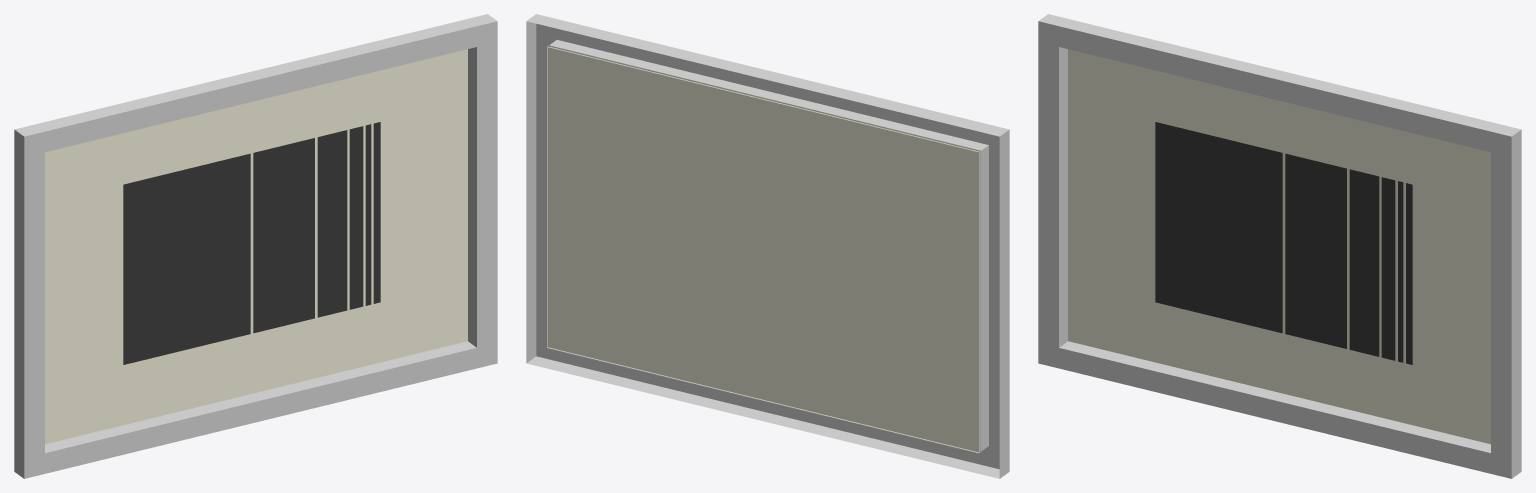
The model's file is picture_011.glb.
The picture shows the model from 3 angles, left to right: view 1: azimuth 30°, elevation 25°; view 2: azimuth 150°, elevation 25°; view 3: azimuth 330°, elevation 25°; orthographic projection.
Parts seen in each view (by area): view 1: picture_011; view 2: picture_011; view 3: picture_011.
Part boxes in pixels (left/top/right/bottom): picture_011: left=14, top=14, right=497, bottom=478; picture_011: left=526, top=14, right=1009, bottom=478; picture_011: left=1038, top=14, right=1521, bottom=478.
Size of the model in its own units: 0.5433 by 0.3754 by 0.0196.
Materials: 1 (1 with a texture image).
